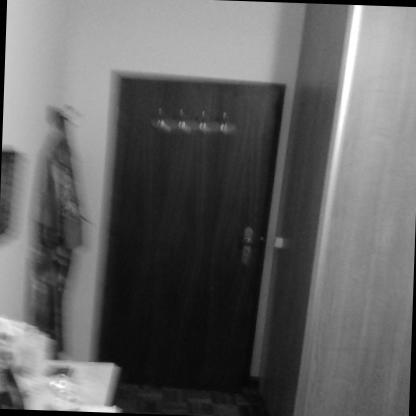closed: (89, 61, 291, 394)
